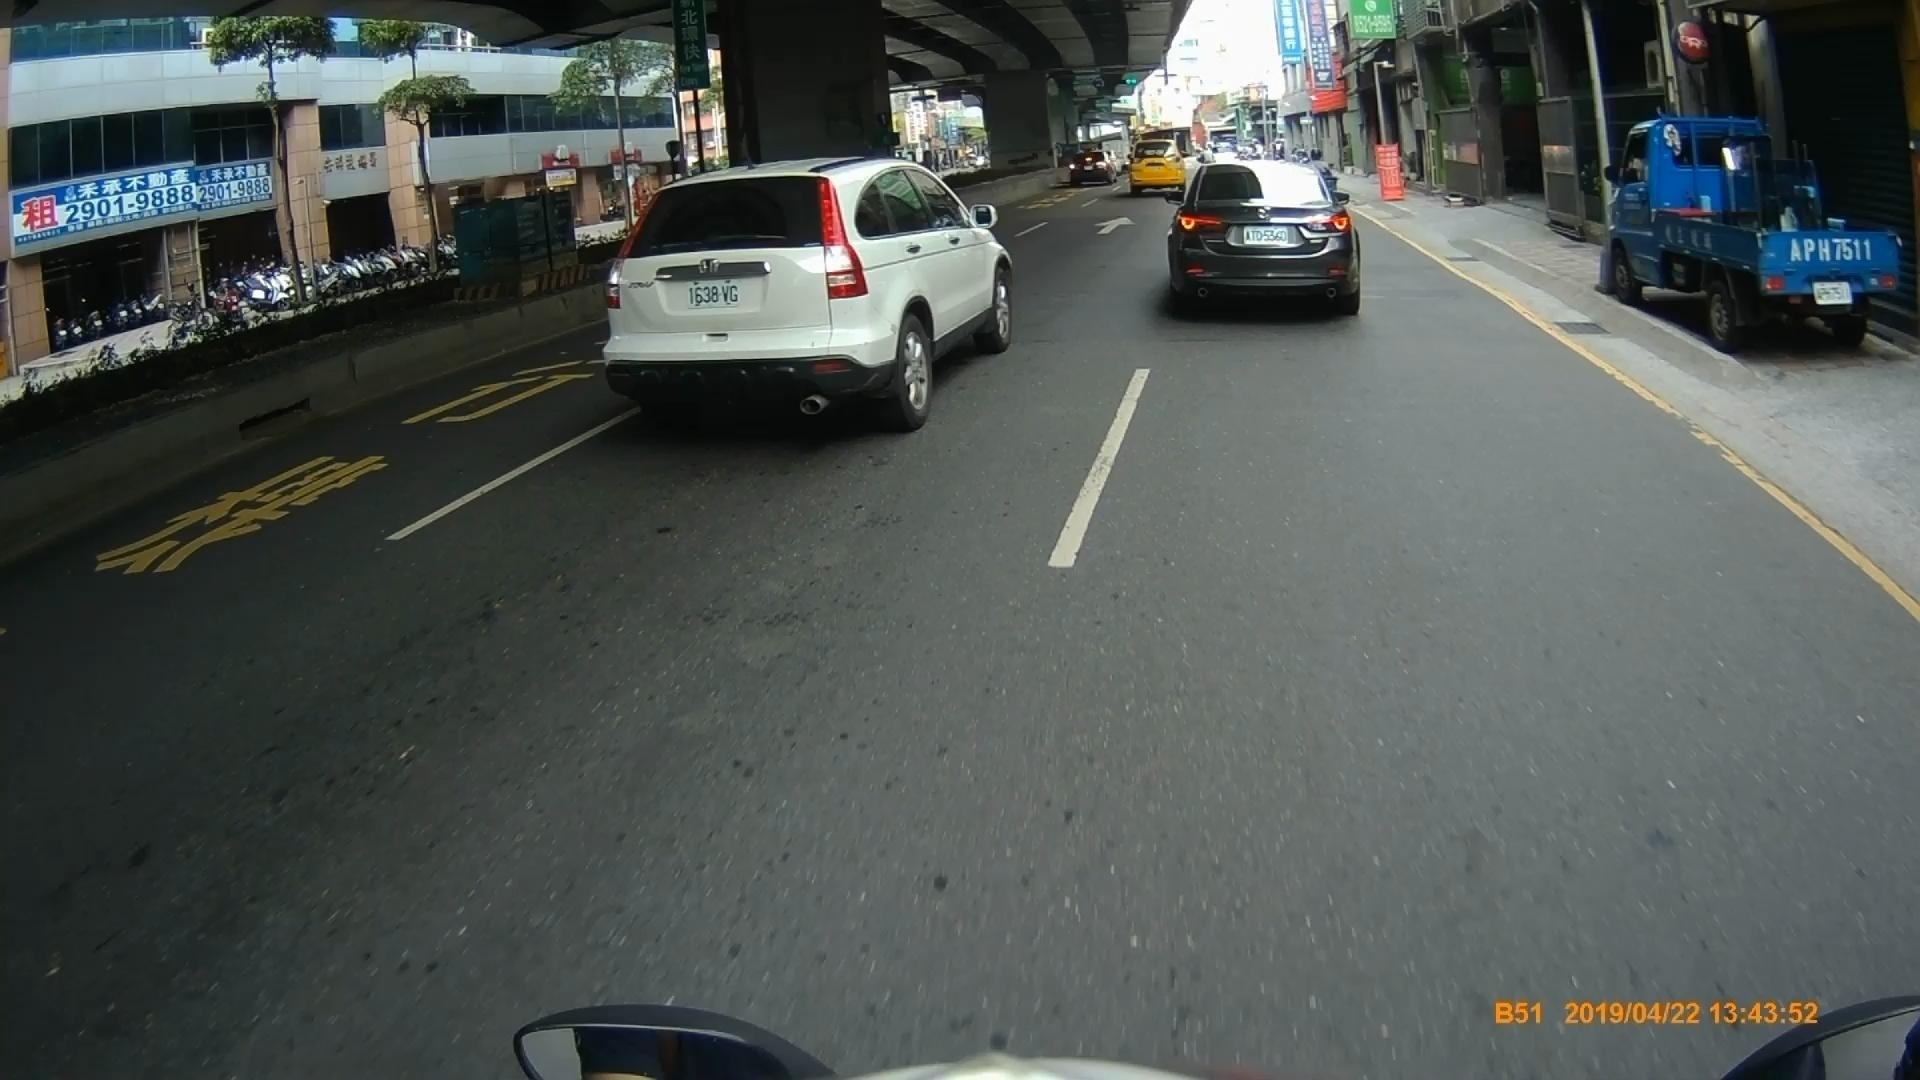License_plate: (681, 277, 744, 306), (1813, 279, 1857, 309), (1241, 225, 1287, 246)
